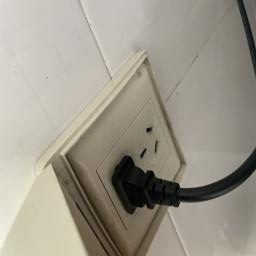outlet: (32, 33, 182, 256)
